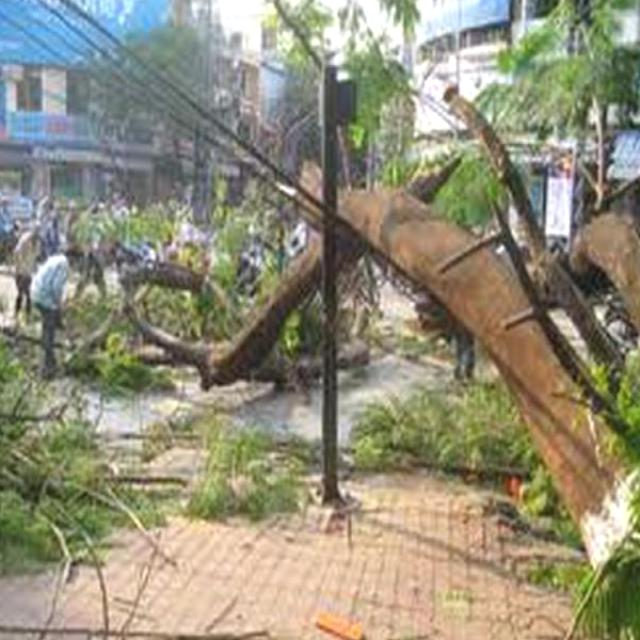fallen_object: (100, 50, 640, 616)
